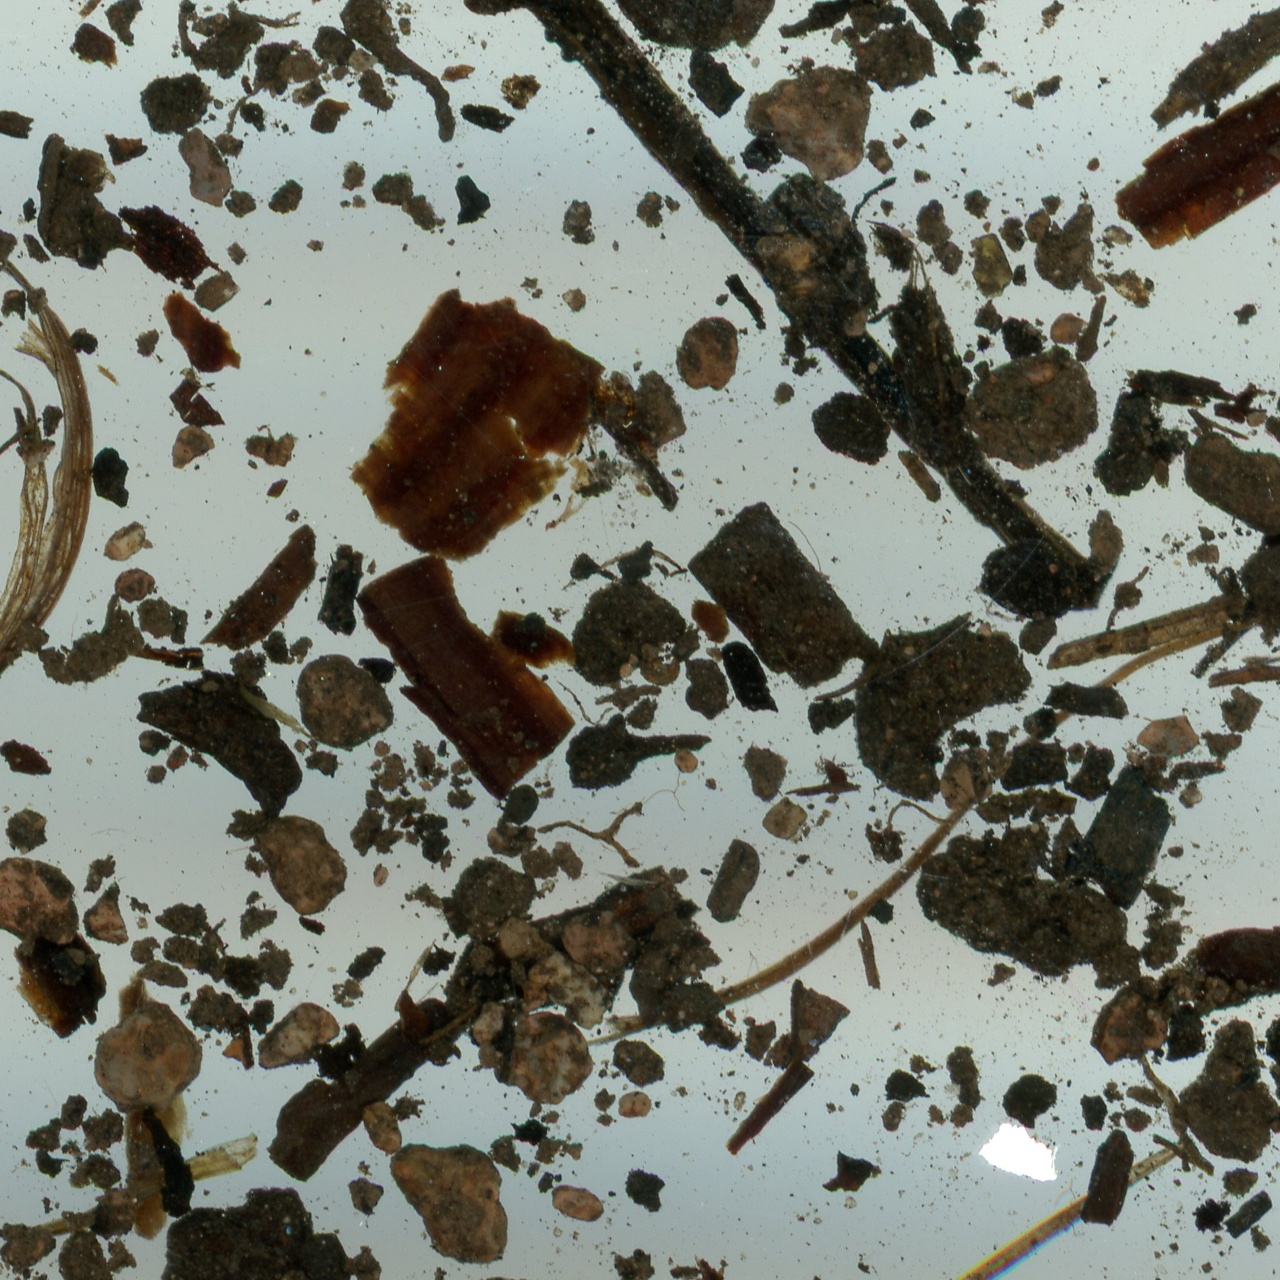arthropod: (809, 748, 858, 797)
